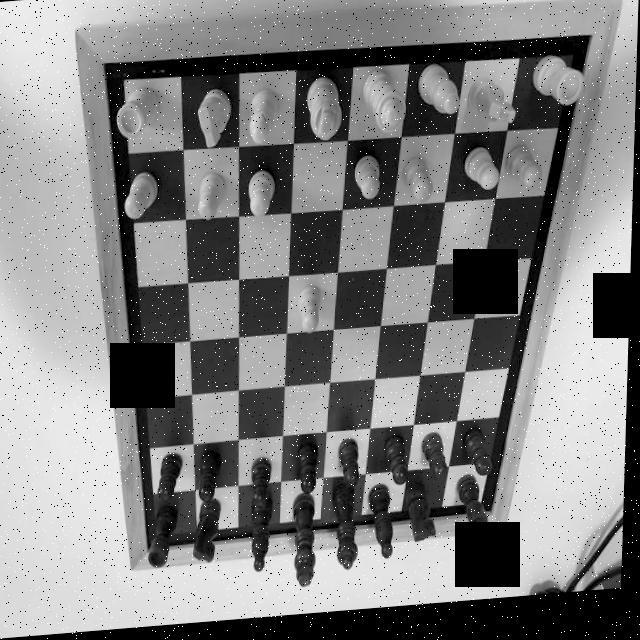chess-table-corners: (576, 32, 600, 64), (95, 51, 118, 80), (143, 538, 162, 564), (490, 510, 502, 535)
